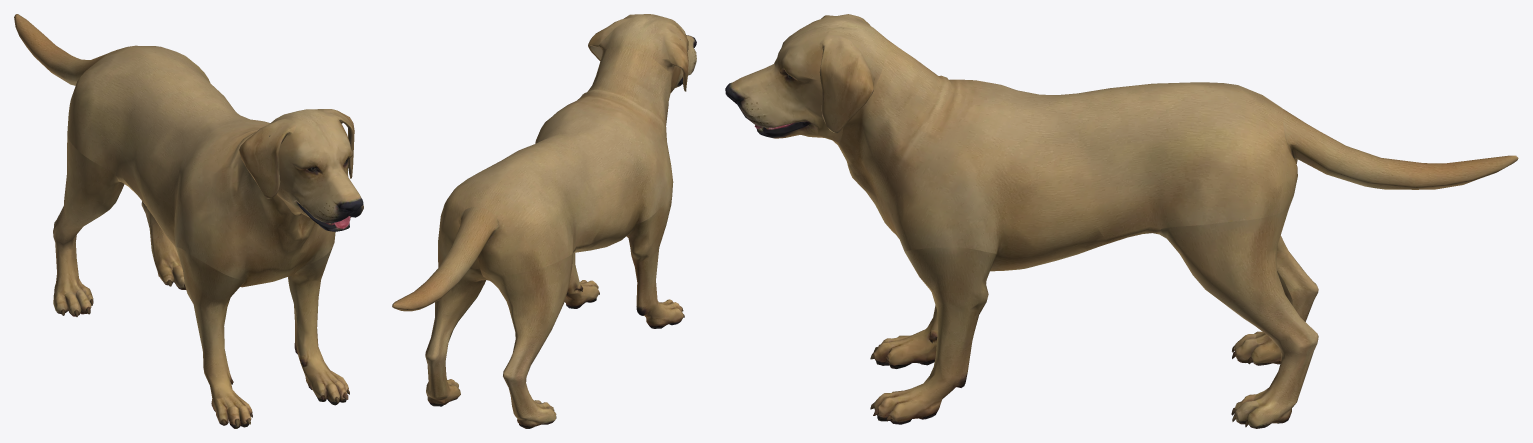
The model's file is dog.glb.
The picture shows the model from 3 angles, left to right: view 1: azimuth 30°, elevation 25°; view 2: azimuth 150°, elevation 25°; view 3: azimuth 270°, elevation 25°; orthographic projection. The views are drawn at different scales.
Parts seen in each view (by area): view 1: material; view 2: material; view 3: material.
Part boxes in pixels (box(x1,y1,x2,y2)): material: box(14, 14, 363, 428); material: box(392, 14, 696, 428); material: box(725, 14, 1518, 428).
Bounding box in the file's own units: 0.2345 × 0.4848 × 0.95.
Materials: 1 (1 with a texture image).
